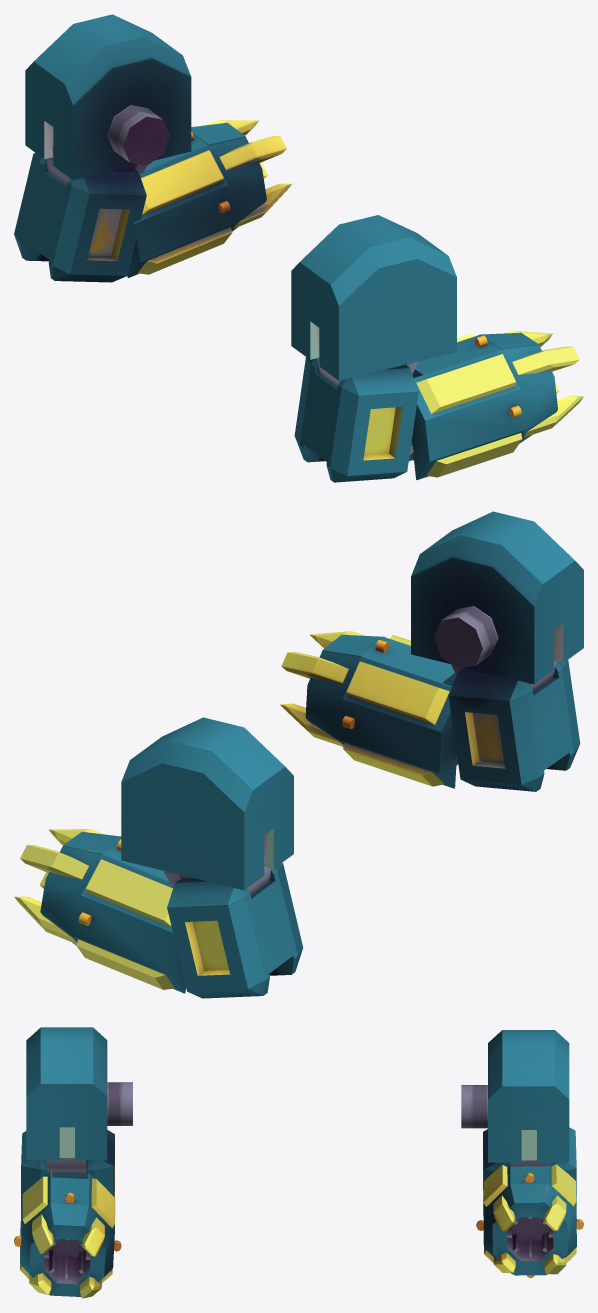
File: Player_Attack_Arm15.obj
The picture shows the model from 3 angles, top to bottom: view 1: azimuth 30°, elevation 25°; view 2: azimuth 150°, elevation 25°; view 3: azimuth 270°, elevation 25°; orthographic projection. The views are drawn at different scales.
Parts seen in each view (by area): view 1: Object005, Object003, Object001, Object007, Object006, Object002; view 2: Object003, Object005, Object001, Object007, Object006, Object002; view 3: Object005, Object003, Object001, Object007, Object002, Object006.
Boxes of the visible parts, bbox=[...] form: Object005: bbox=[25, 14, 191, 180]; Object003: bbox=[291, 215, 456, 380]; Object001: bbox=[409, 330, 583, 479]; Object007: bbox=[127, 120, 291, 277]; Object006: bbox=[14, 146, 146, 282]; Object002: bbox=[294, 357, 418, 482]; Object003: bbox=[411, 511, 583, 684]; Object005: bbox=[121, 717, 293, 890]; Object001: bbox=[280, 631, 458, 788]; Object007: bbox=[14, 829, 185, 993]; Object006: bbox=[163, 856, 303, 998]; Object002: bbox=[448, 660, 580, 791]; Object005: bbox=[461, 1030, 569, 1162]; Object003: bbox=[26, 1027, 132, 1160]; Object001: bbox=[14, 1171, 121, 1298]; Object007: bbox=[476, 1163, 583, 1278]; Object002: bbox=[21, 1130, 114, 1214]; Object006: bbox=[483, 1127, 576, 1219].
Bounding box in the file's own units: 37.56 × 34.35 × 83.71.
Materials: 1 (1 with a texture image).
